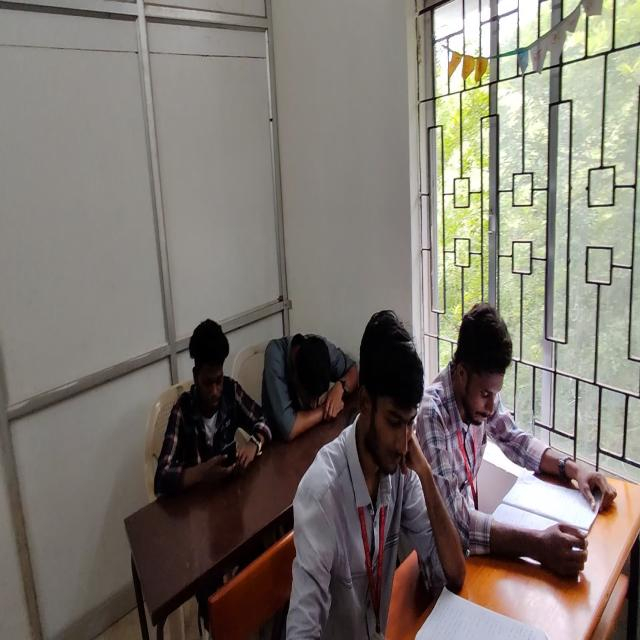reading: (418, 306, 620, 591), (286, 312, 460, 639)
sleeping: (263, 330, 355, 444)
using_mobile: (156, 317, 274, 495)
